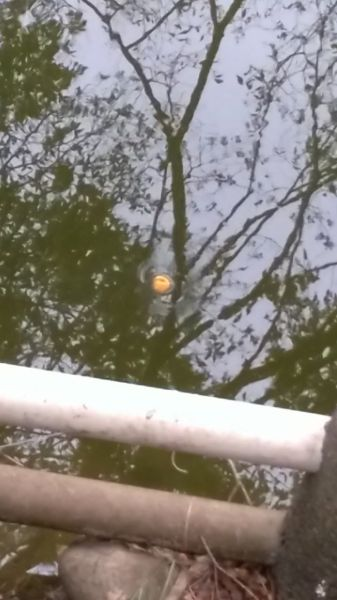eggs: (150, 274, 173, 294)
